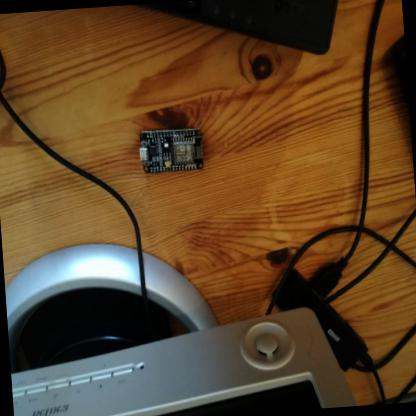ESP8266: (136, 128, 209, 180)
